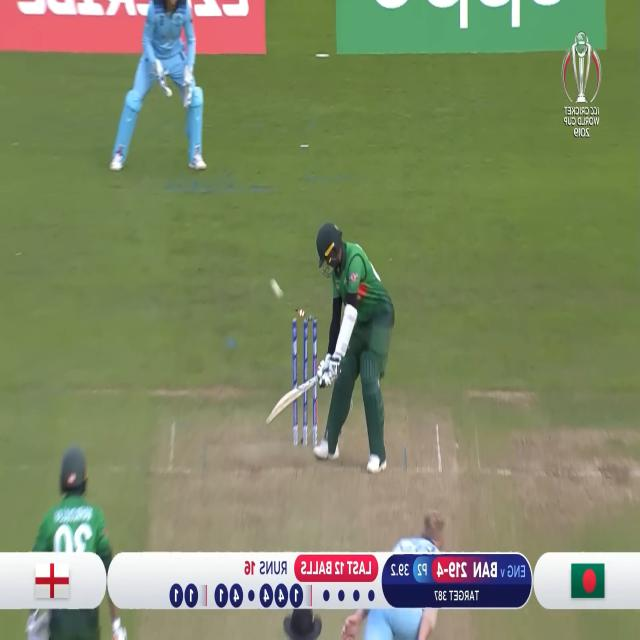ball: (265, 277, 284, 299)
